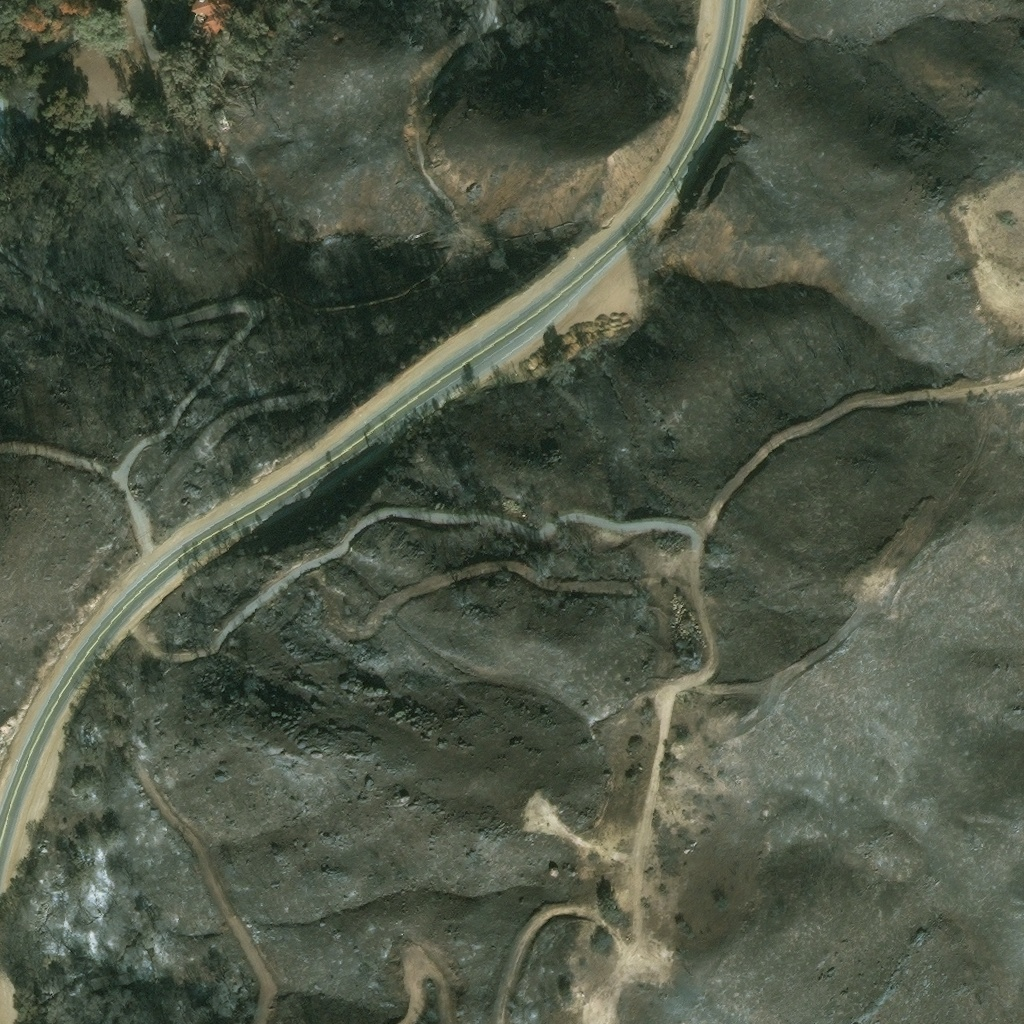0 no-damage: (189, 0, 230, 32)
